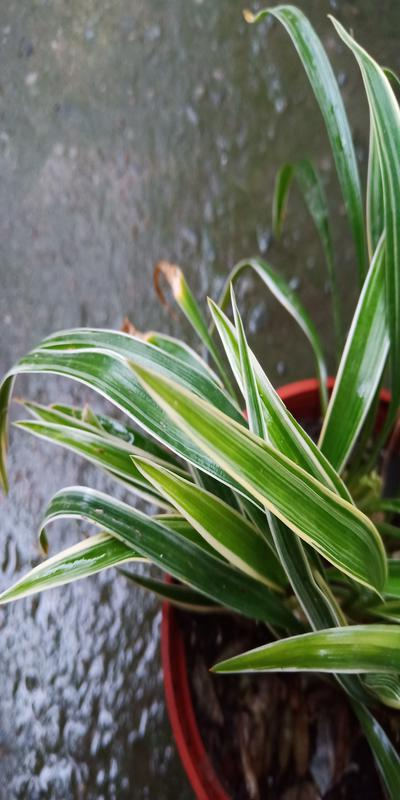Yellow and green leaf: (28, 322, 397, 691)
